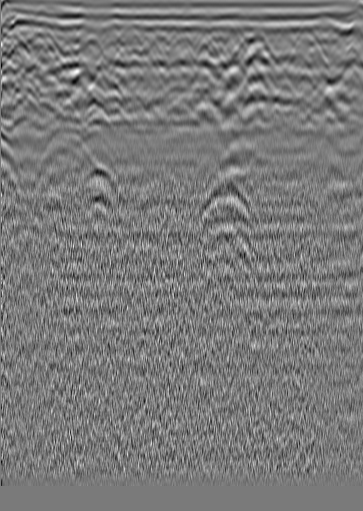가스: (79, 164, 124, 194)
상수: (312, 32, 332, 52)
오수: (19, 29, 39, 49)
우수: (191, 31, 211, 51)
